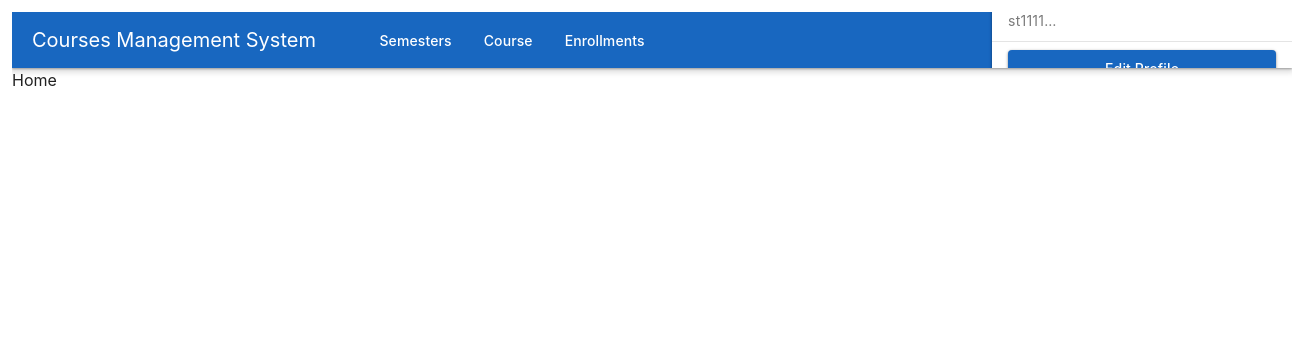
Test: Feature 3 — Course Management › US-3.7 — Role-Based Access Control › Student user view list of courses access
Click the button "Course". click: (508, 40)
box: [468,22,549,58]
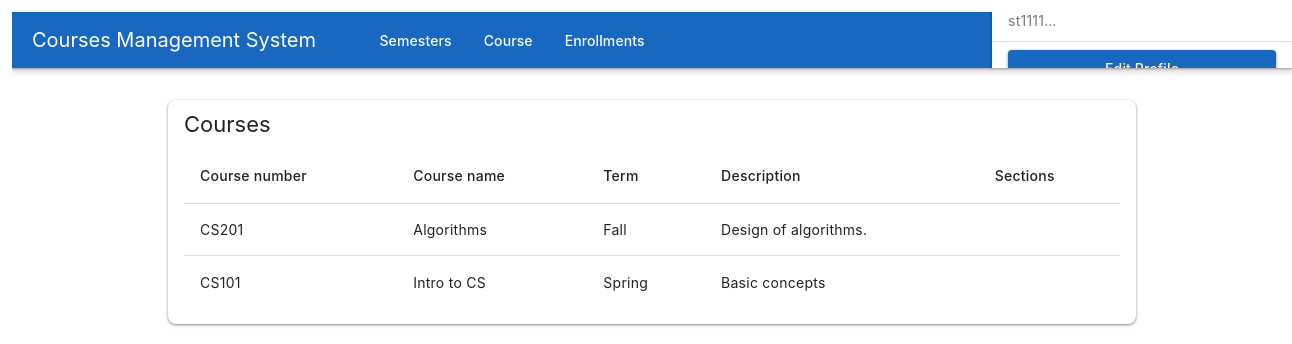
Check: the table is shown, box [184,148,1120,308]
Check: the text "Intro to CS" is shown, box [397,256,587,308]
Check: the text "Algorithms" is shown, box [397,204,587,256]
